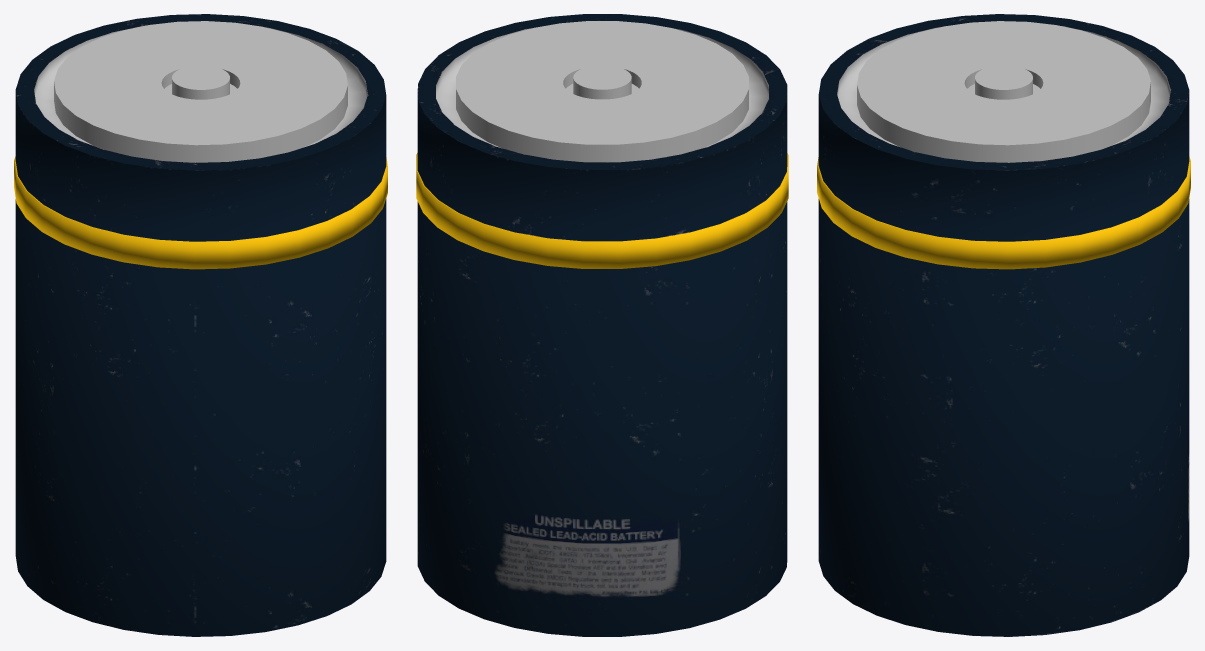
Rendered from Unity2Skfb.gltf.
The picture shows the model from 3 angles, left to right: view 1: azimuth 30°, elevation 25°; view 2: azimuth 150°, elevation 25°; view 3: azimuth 270°, elevation 25°; orthographic projection.
Visible parts, largest first — view 1: batt; view 2: batt; view 3: batt.
Part boxes in pixels (<box>): batt: <box>14,14,387,636</box>; batt: <box>416,14,788,636</box>; batt: <box>817,14,1190,636</box>.
Size of the model in its own units: 1.84 by 2.61 by 1.84.
Materials: 3 (3 with a texture image).
